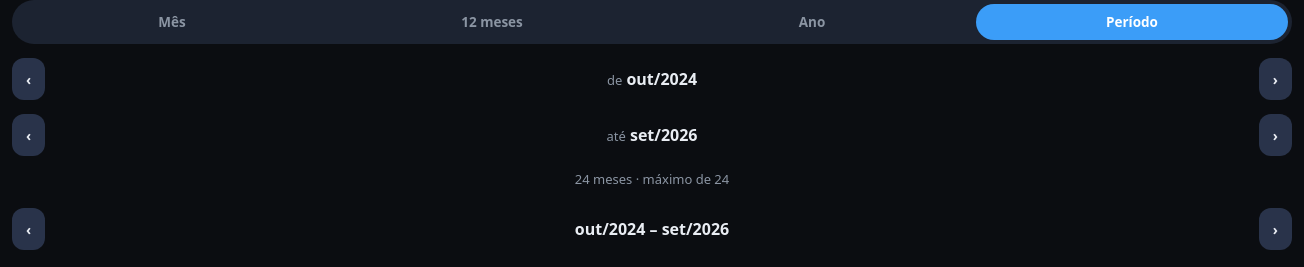
Test: SeletorPeriodo › modo Período: recuar o início no teto puxa o fim
expect the text "24 meses · máximo de 24" is shown: met, box [575,170,729,188]
Click the button named "Mês inicial anterior".
click(29, 79)  # box [12,58,45,100]
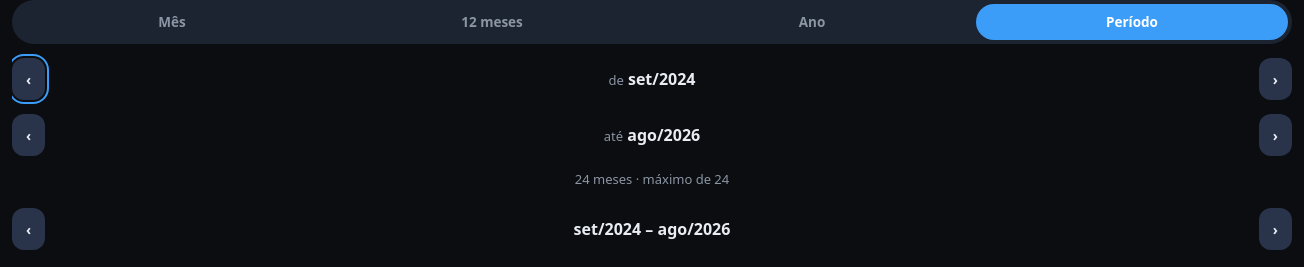
expect the text "24 meses · máximo de 24" is shown: met, box [575,170,729,188]
expect the text "set/2024 – ago/2026" is shown: met, box [574,218,730,240]
